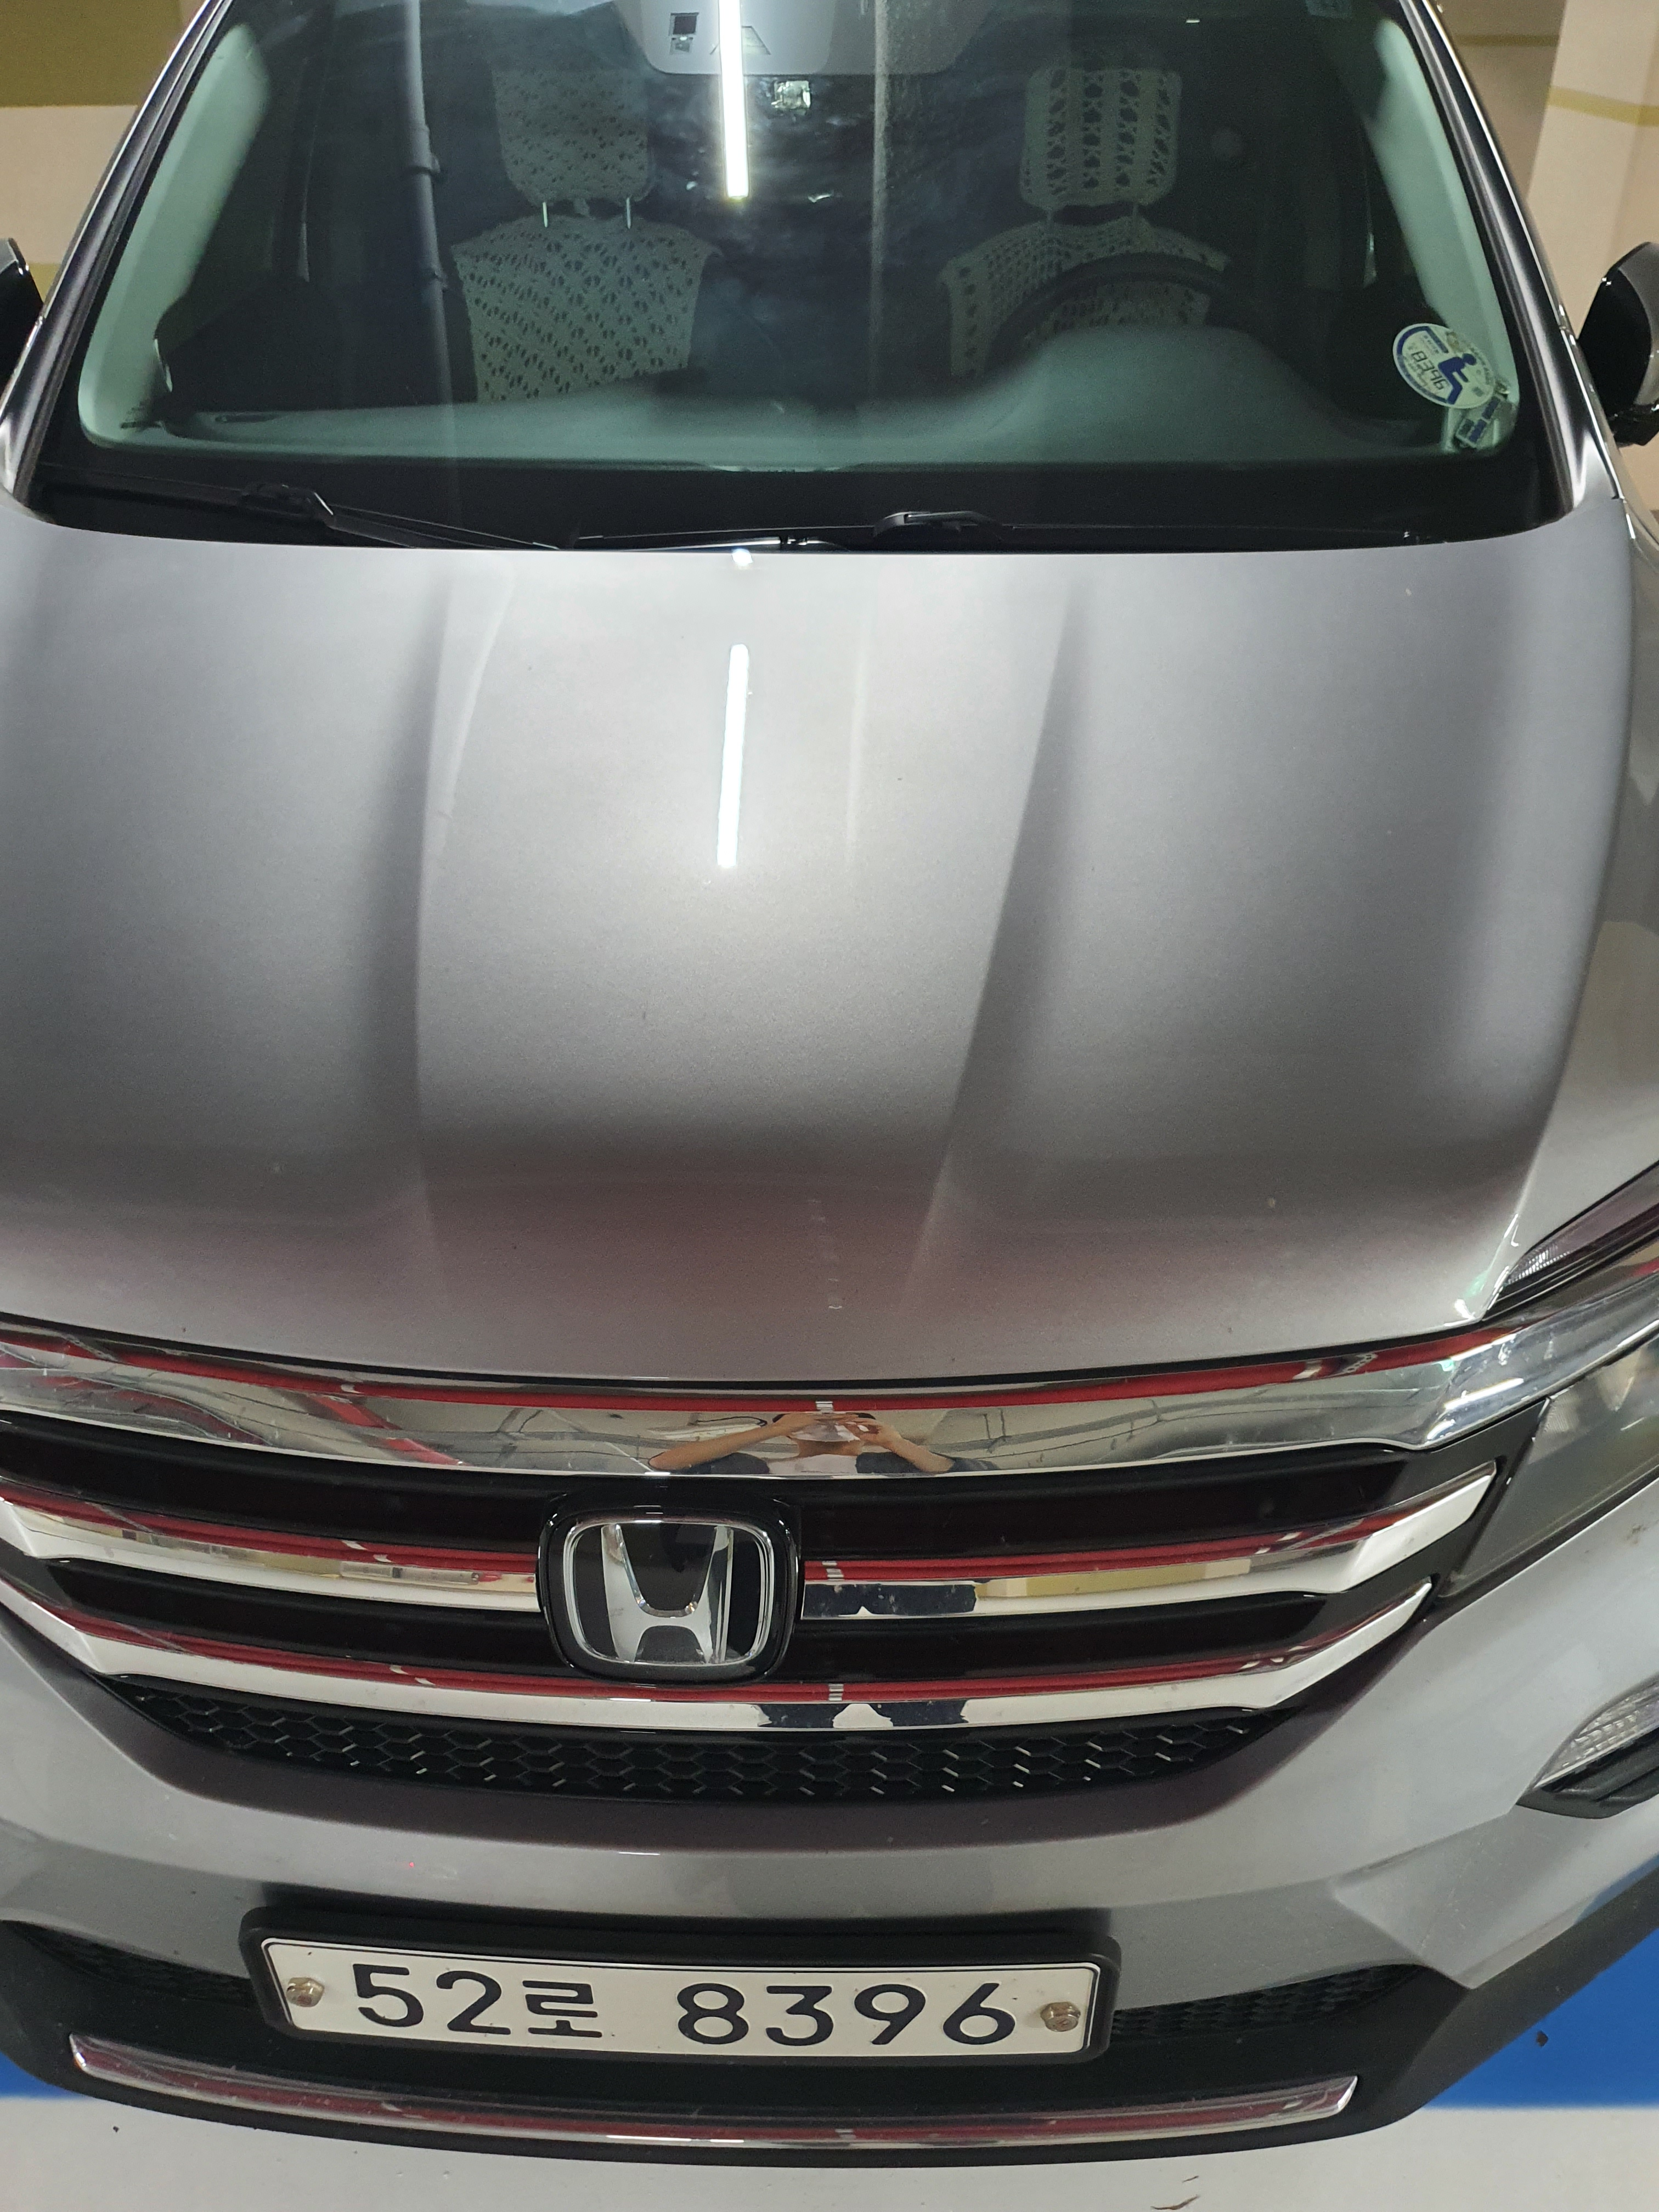disabled_parking: (1389, 319, 1499, 413)
